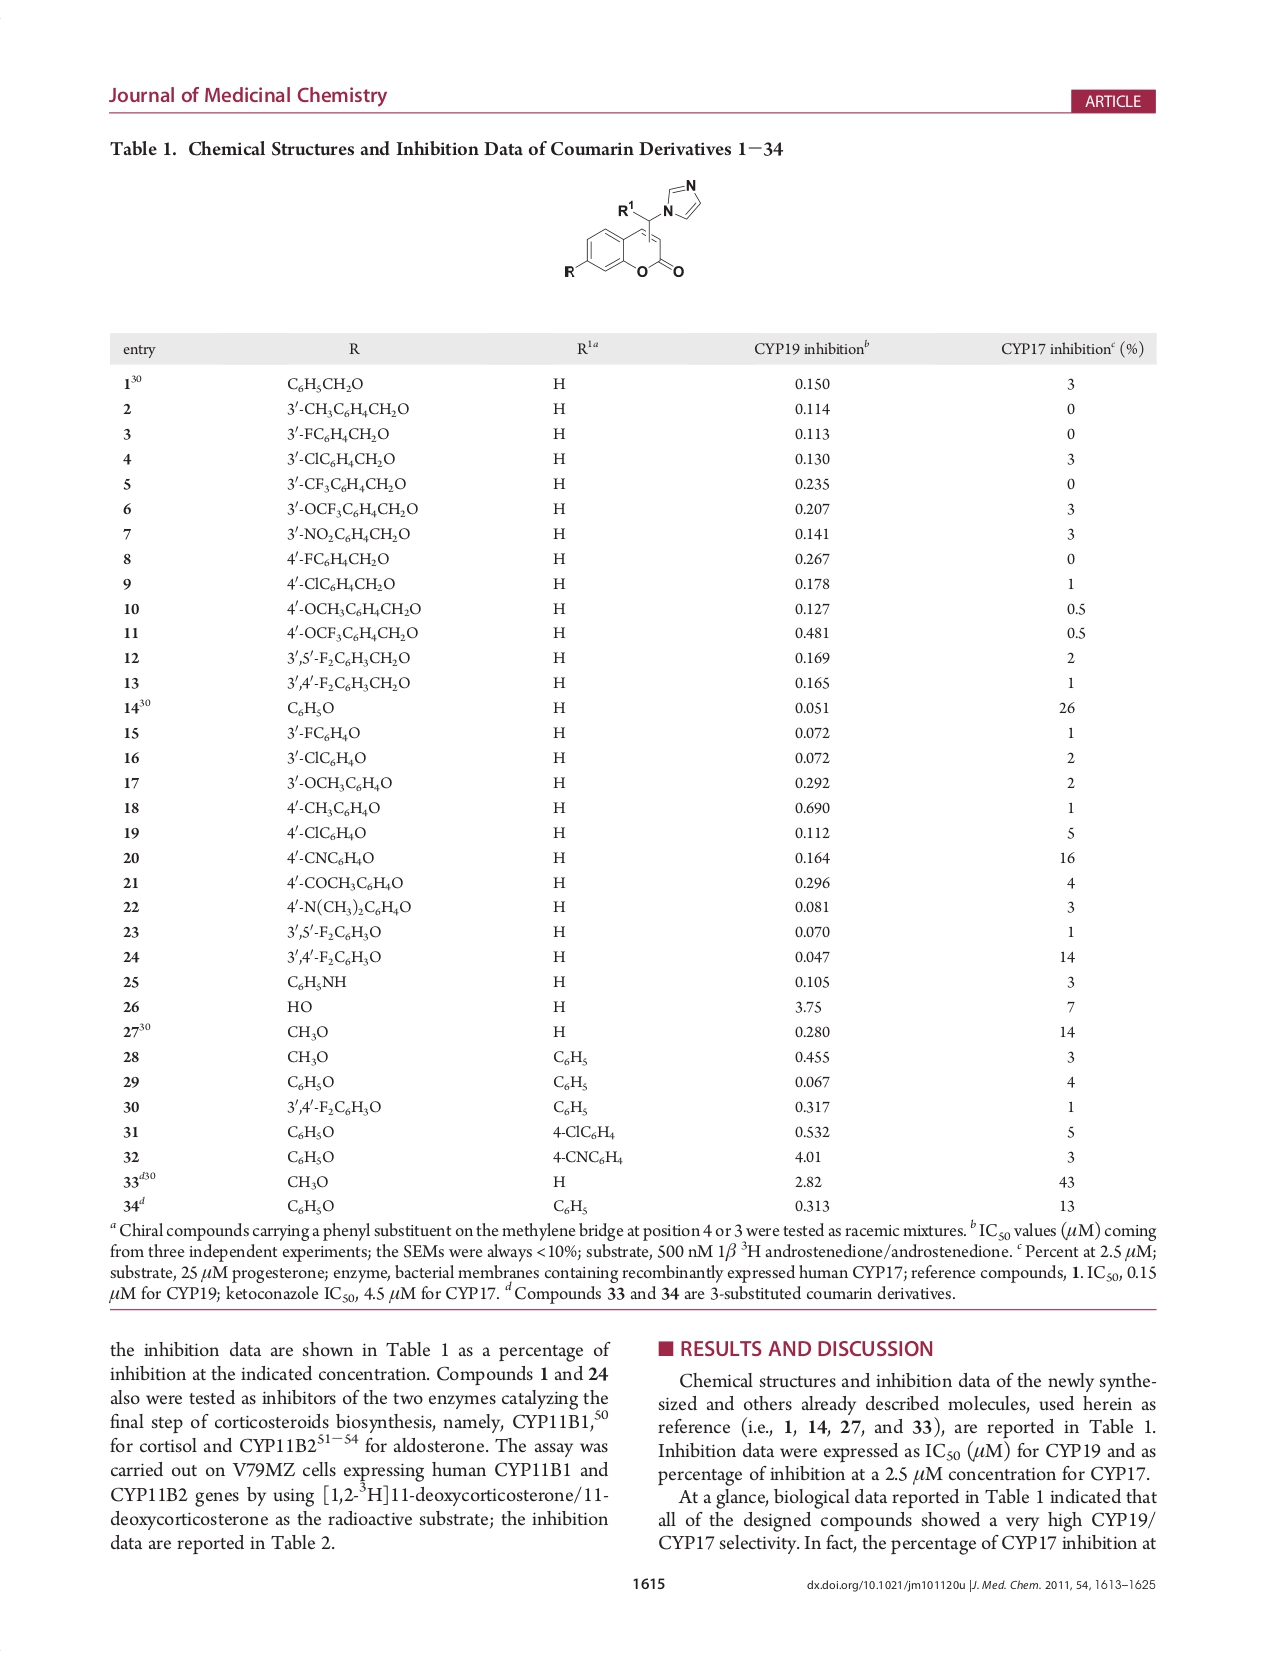exist_molecular: (559, 176, 714, 294)
